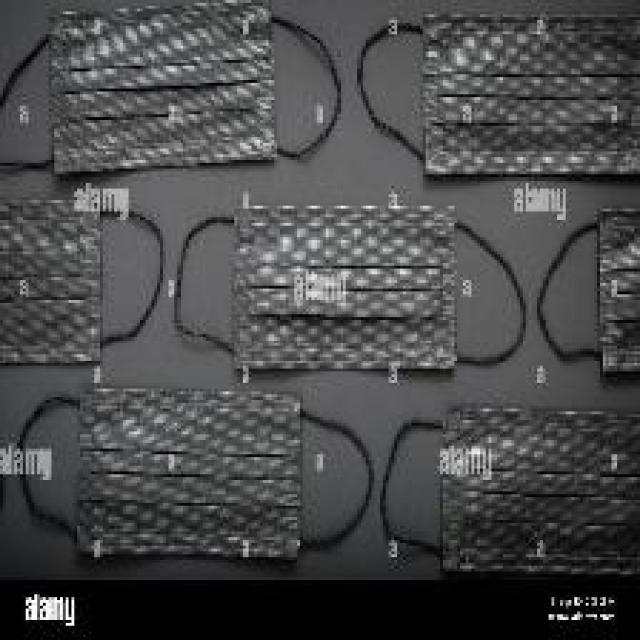Mask: (39, 370, 385, 598), (169, 206, 531, 381), (351, 10, 640, 198), (381, 398, 640, 607), (38, 10, 341, 186), (4, 185, 164, 387), (529, 183, 640, 394)
